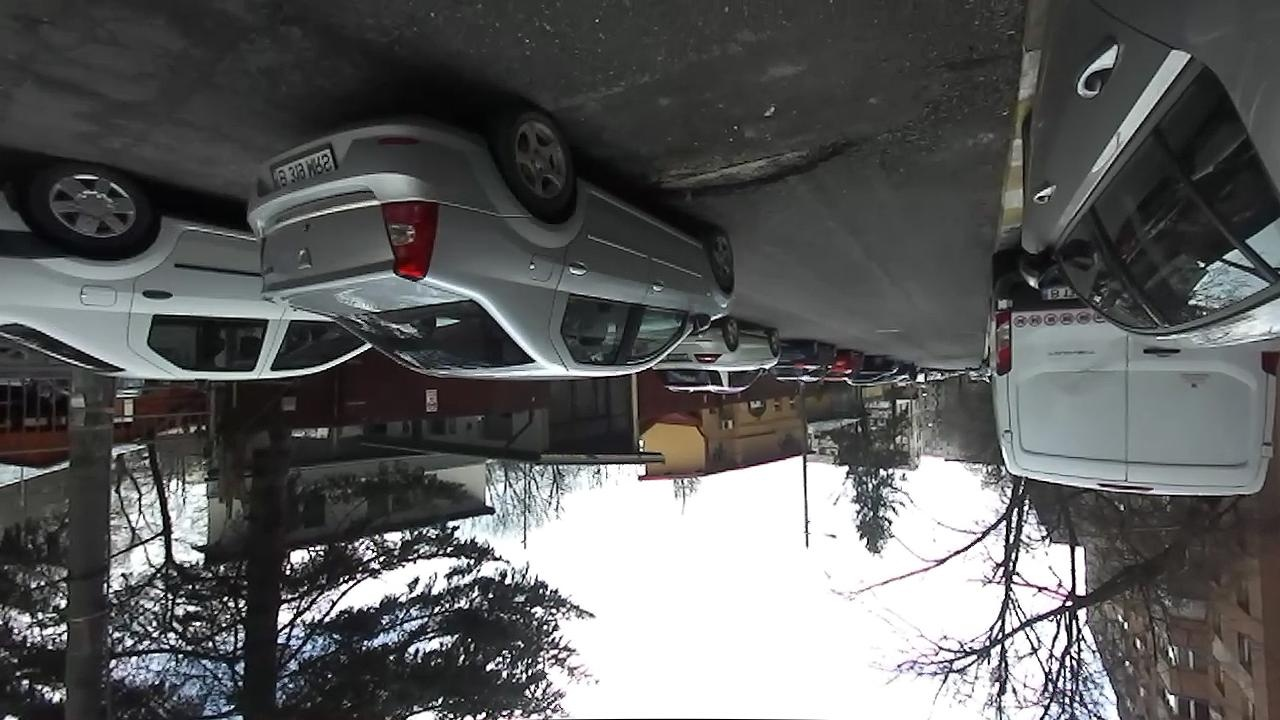pothole: (641, 136, 862, 202)
